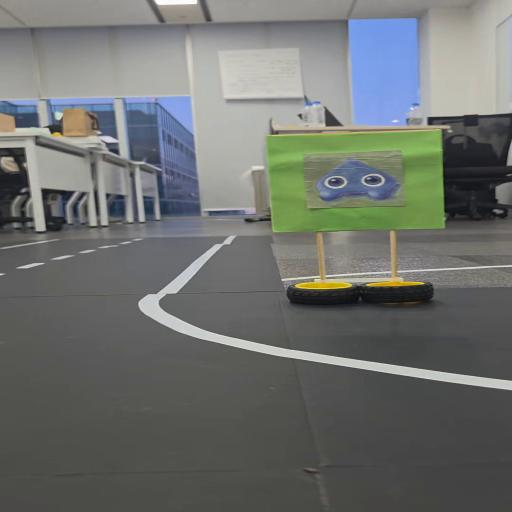Sign_B: (265, 128, 457, 319)
